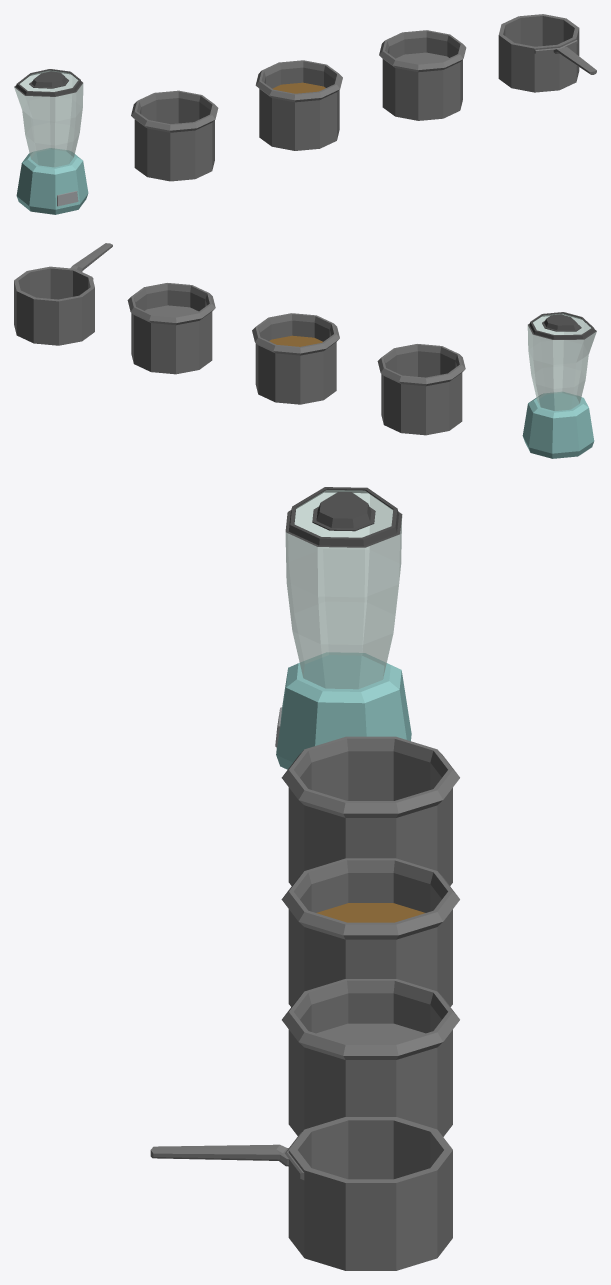
File: stoves.fbx
The picture shows the model from 3 angles, top to bottom: view 1: azimuth 30°, elevation 25°; view 2: azimuth 150°, elevation 25°; view 3: azimuth 270°, elevation 25°; orthographic projection. The views are drawn at different scales.
Visible parts, largest first — view 1: Cylinder, Cylinder.004, Cylinder.006, Cylinder.005, Cylinder.008; view 2: Cylinder, Cylinder.004, Cylinder.006, Cylinder.005, Cylinder.008; view 3: Cylinder, Cylinder.008, Cylinder.006, Cylinder.004, Cylinder.005.
Boxes of the visible parts, x1,y1,x2,y2 form: Cylinder: (14, 69, 88, 214); Cylinder.004: (131, 90, 218, 181); Cylinder.006: (379, 30, 466, 120); Cylinder.005: (255, 60, 342, 150); Cylinder.008: (498, 14, 596, 92); Cylinder: (522, 312, 596, 458); Cylinder.004: (377, 344, 465, 435); Cylinder.006: (127, 283, 215, 374); Cylinder.005: (252, 313, 339, 404); Cylinder.008: (14, 243, 112, 345); Cylinder: (275, 487, 411, 769); Cylinder.008: (150, 1117, 452, 1270); Cylinder.006: (282, 979, 459, 1136); Cylinder.004: (281, 736, 459, 885); Cylinder.005: (281, 858, 459, 1006).
Size of the model in its own units: 392 by 82.92 by 93.88.
